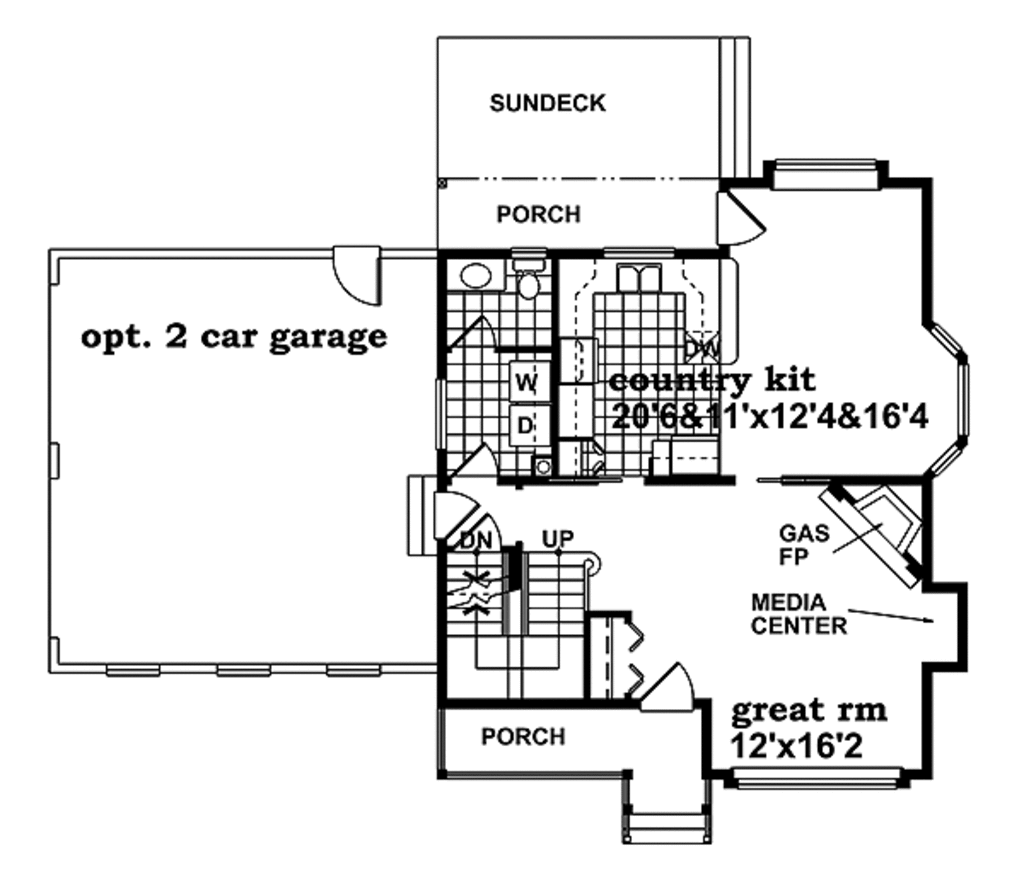door: (334, 233, 393, 317), (706, 181, 765, 253), (637, 655, 701, 717), (442, 436, 500, 488), (441, 311, 505, 354), (431, 487, 476, 540)
large_sink: (509, 244, 547, 303)
small_sink: (443, 254, 510, 294)
stairs: (450, 550, 591, 699)
twin_sink: (612, 253, 665, 294)
window: (927, 321, 979, 480), (97, 657, 386, 681), (732, 762, 912, 792), (771, 154, 891, 194), (598, 242, 680, 263), (41, 439, 71, 487)
